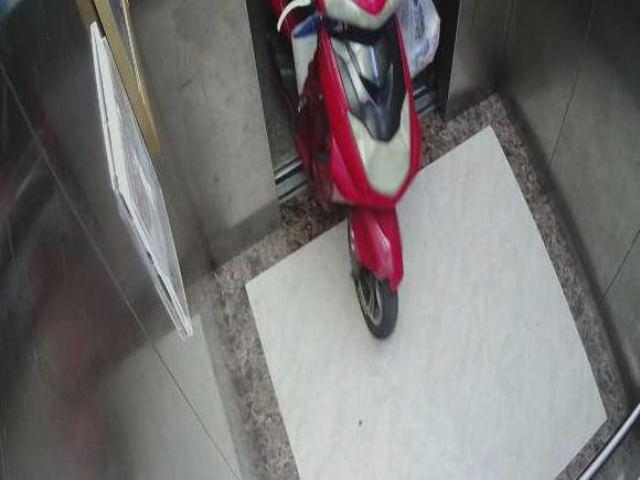emotor: (266, 9, 448, 350)
